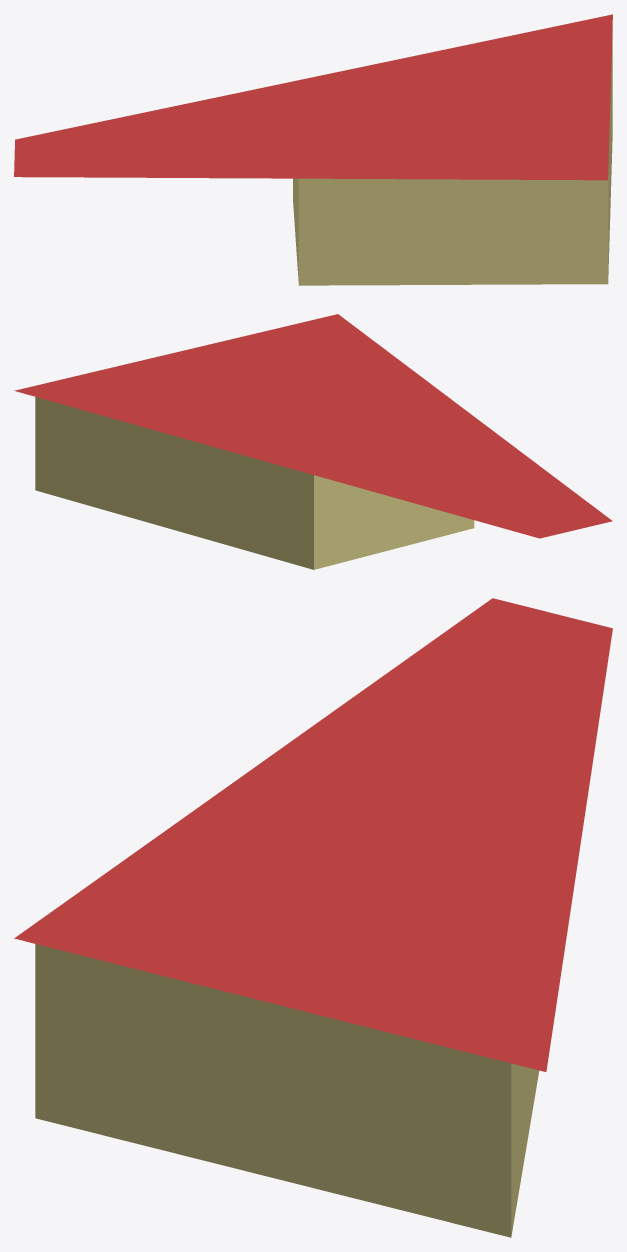
The picture shows the model from 3 angles, top to bottom: view 1: azimuth 30°, elevation 25°; view 2: azimuth 150°, elevation 25°; view 3: azimuth 270°, elevation 25°; orthographic projection. The views are drawn at different scales.
Visible parts, largest first — view 1: group_3, group_5, group_4; view 2: group_3, group_5, group_4; view 3: group_3, group_5, group_4.
Part boxes in pixels (<box>): group_3: <box>14,14,612,180</box>; group_5: <box>293,31,612,285</box>; group_4: <box>14,15,612,180</box>; group_3: <box>14,314,612,538</box>; group_5: <box>35,397,474,569</box>; group_4: <box>15,314,611,537</box>; group_3: <box>14,598,612,1071</box>; group_5: <box>35,944,539,1237</box>; group_4: <box>14,598,612,1071</box>.
Bounding box in the file's own units: 24.5 × 13.08 × 4.2.
